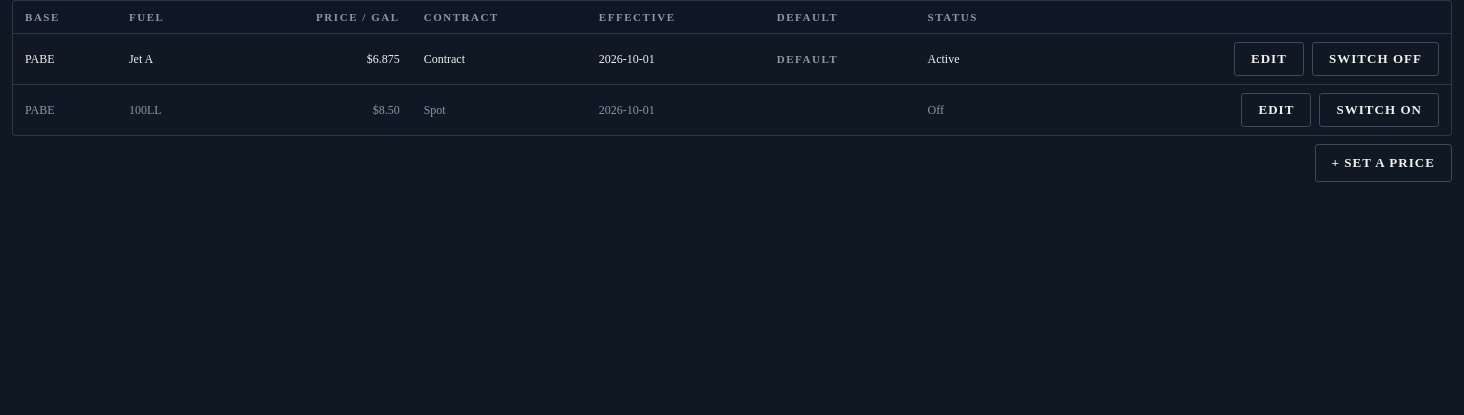
Test: SupplierPrices (#134) › changes a price with its base and fuel kept
Click the button "Edit" in the row of "Jet A": (1269, 59) [1234,42,1304,76]
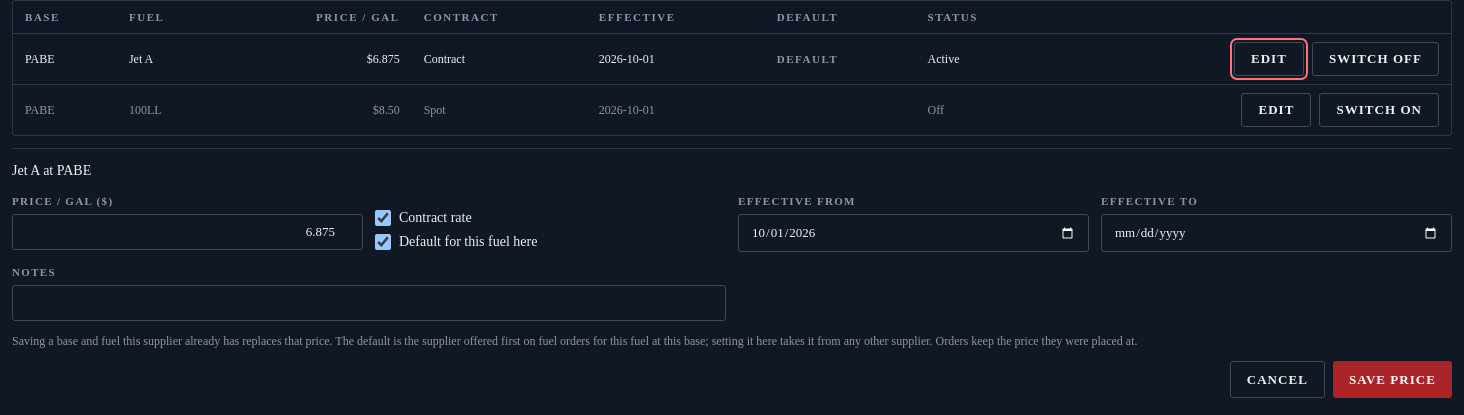
Expected: the number field labelled "Price / gal ($)" holds "6.875"
Replace the text in the number field labelled "Price / gal ($)" with "7.125": (188, 232) [12,214,363,250]
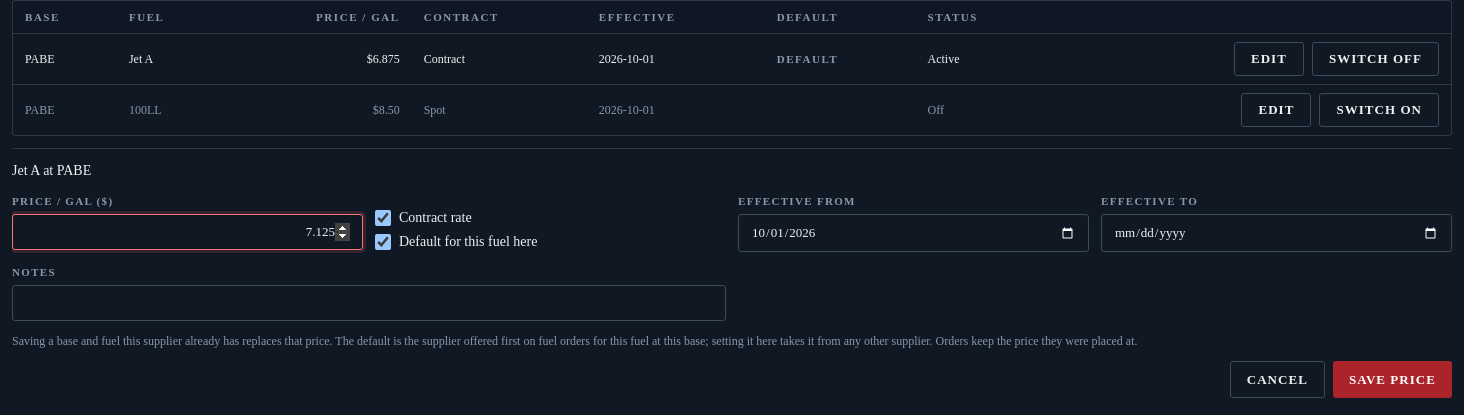
Click the button "Save price": (1392, 379) [1333,361,1452,398]
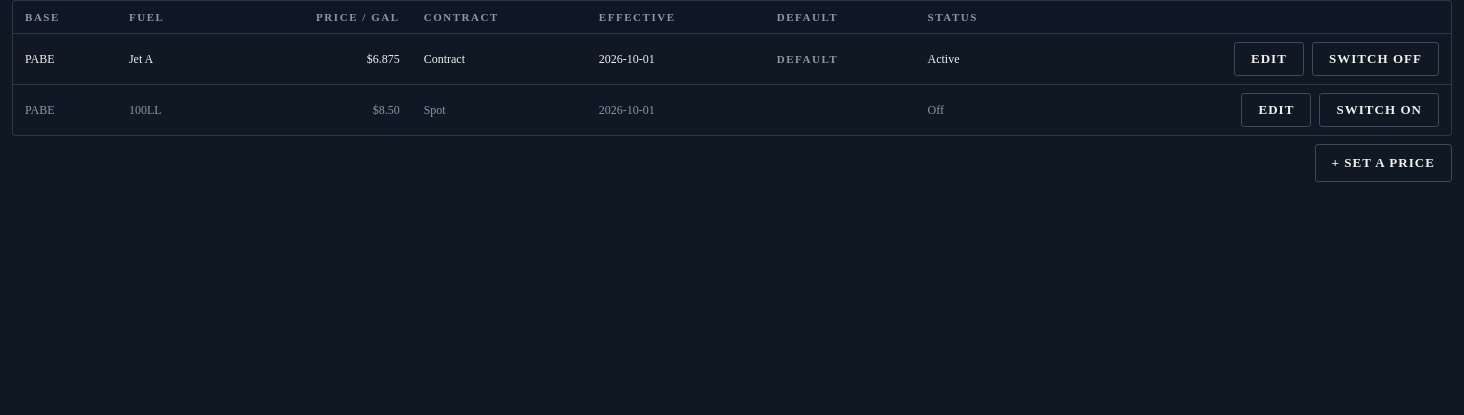
Expected: the form is gone
